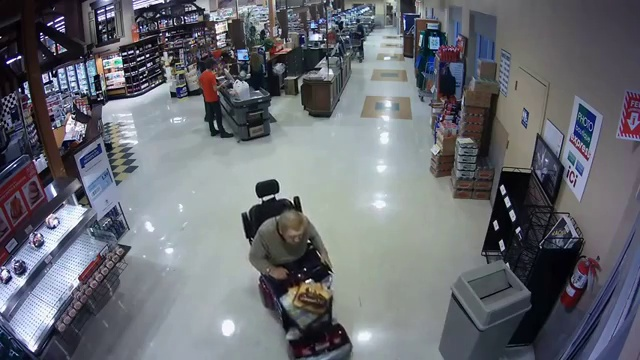face: (284, 227, 304, 248)
